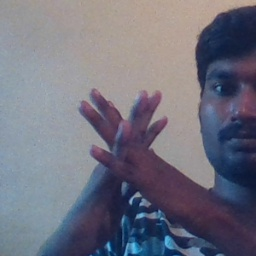W: (65, 75, 199, 232)
